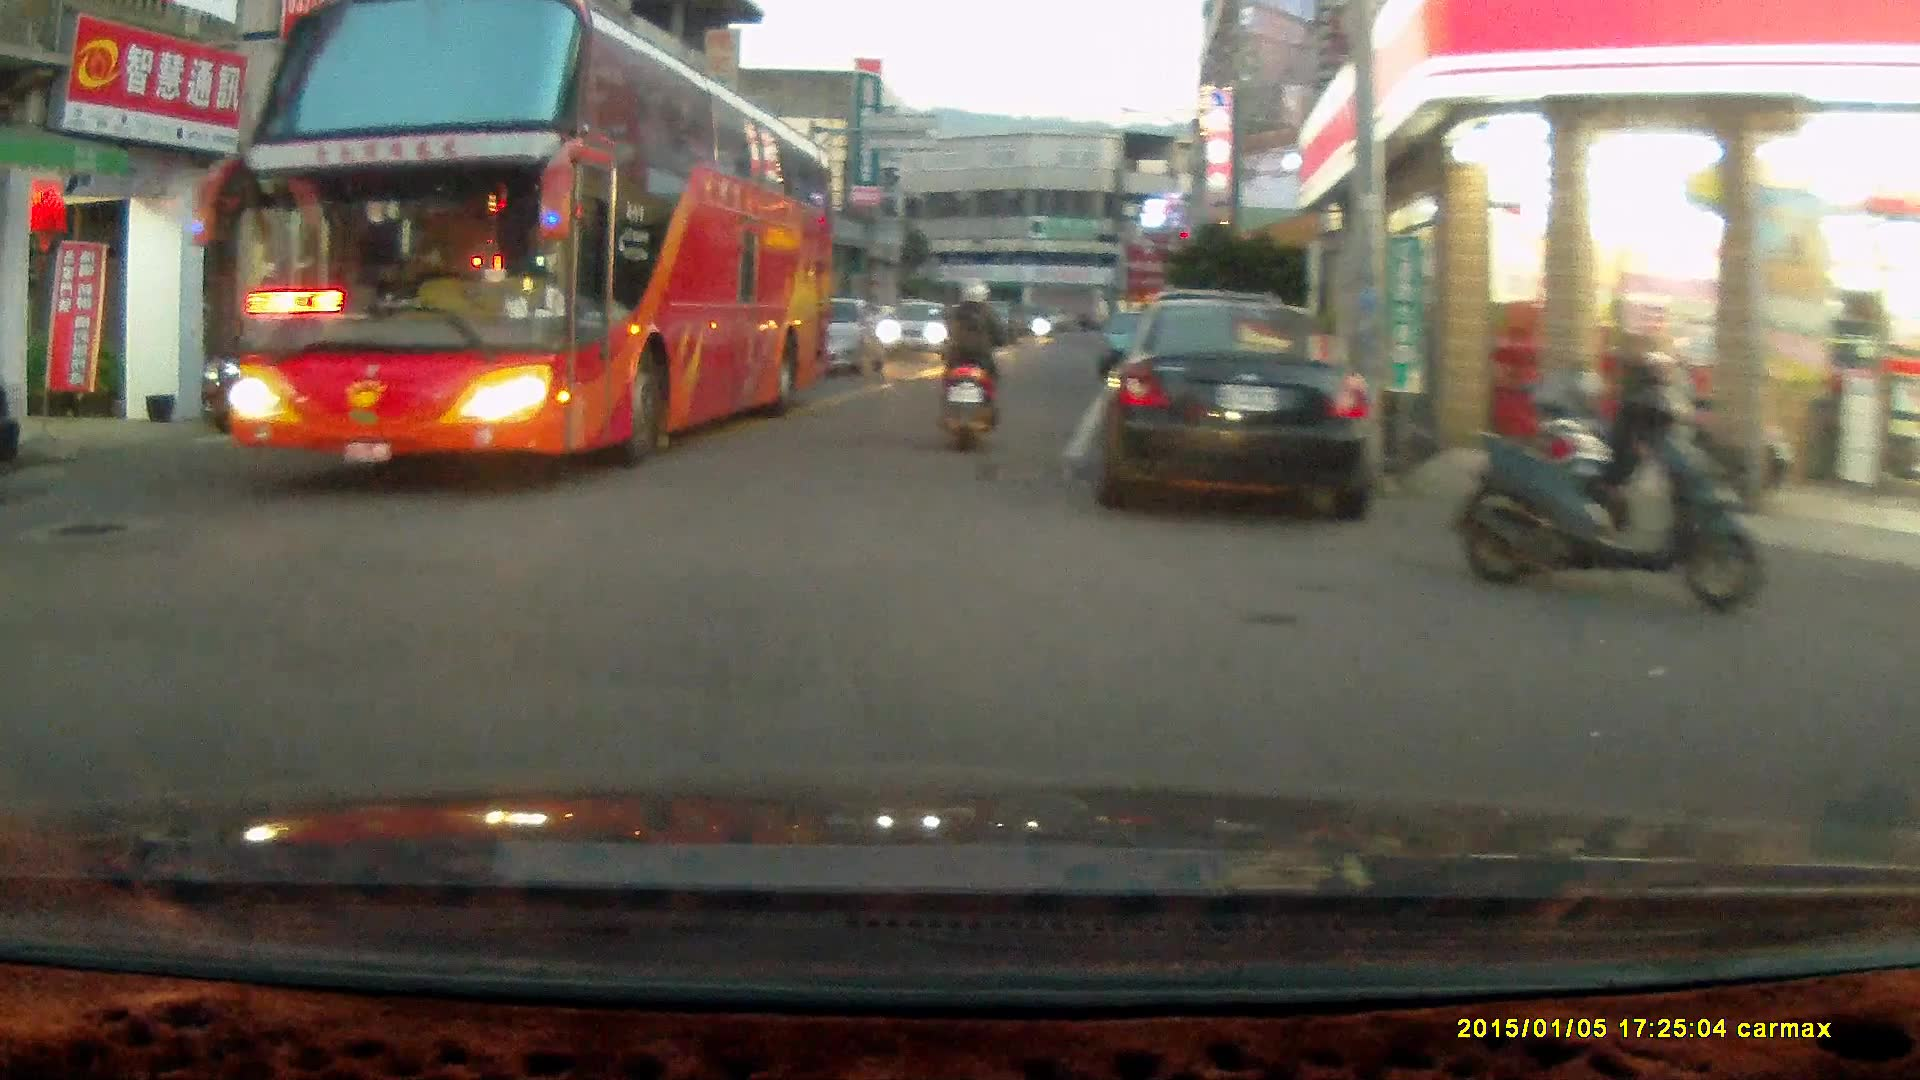rider: (929, 274, 1006, 454)
vehicle: (222, 2, 840, 472), (1077, 291, 1376, 519), (809, 297, 886, 379)
